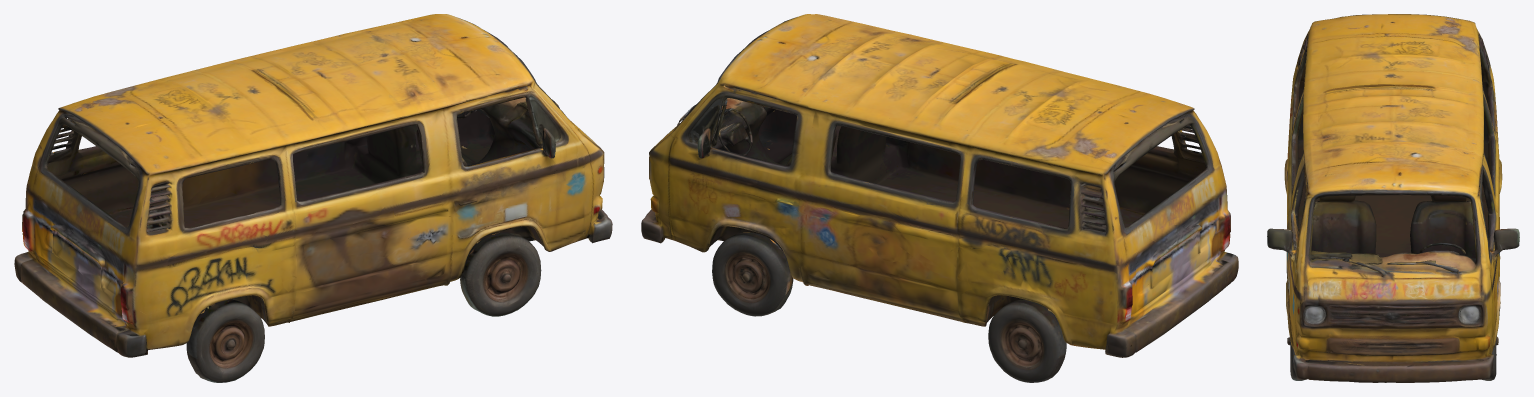
The picture shows the model from 3 angles, left to right: view 1: azimuth 30°, elevation 25°; view 2: azimuth 150°, elevation 25°; view 3: azimuth 270°, elevation 25°; orthographic projection. The views are drawn at different scales.
Visible parts, largest first — view 1: Mesh_0; view 2: Mesh_0; view 3: Mesh_0.
Part boxes in pixels (box(x1,y1,x2,y2)): Mesh_0: box(14, 14, 612, 382); Mesh_0: box(641, 14, 1238, 382); Mesh_0: box(1267, 14, 1519, 382).
Bounding box in the file's own units: 2 × 0.8948 × 0.9543.
1 material, 1 textured.
